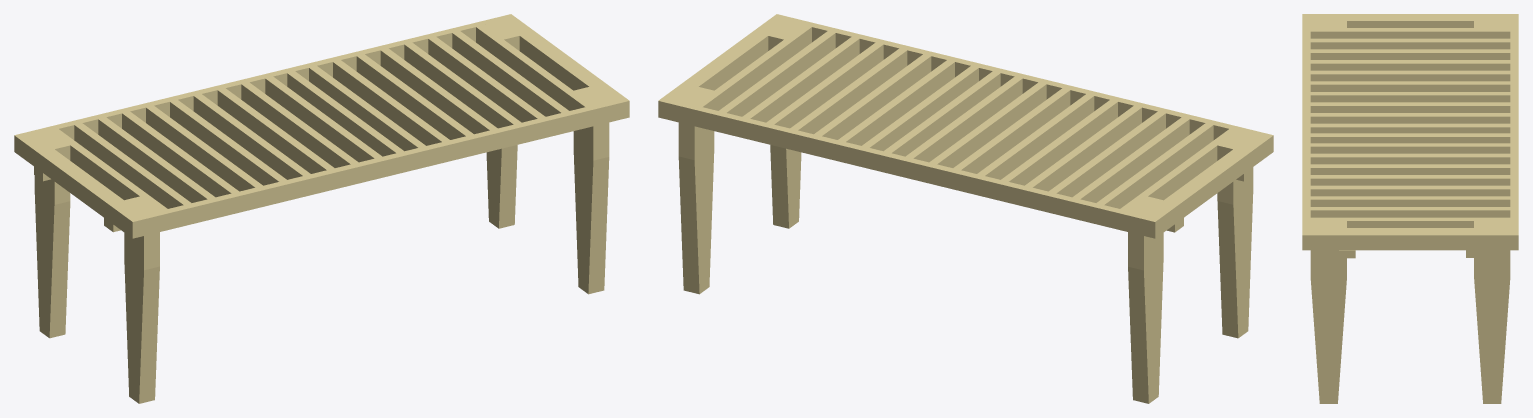
3 views of the same model, side by side, from view 1: azimuth 30°, elevation 25°; view 2: azimuth 150°, elevation 25°; view 3: azimuth 270°, elevation 25° (orthographic). The views are drawn at different scales.
Visible parts, largest first — view 1: mesh3_mesh3-geometry; view 2: mesh3_mesh3-geometry; view 3: mesh3_mesh3-geometry, mesh1_mesh1-geometry.
Boxes of the visible parts, x1,y1,x2,y2 form: mesh3_mesh3-geometry: (14, 14, 629, 403); mesh3_mesh3-geometry: (658, 14, 1273, 403); mesh3_mesh3-geometry: (1302, 14, 1518, 403); mesh1_mesh1-geometry: (1339, 250, 1482, 258).
Bounding box in the file's own units: 0.8745 × 0.3238 × 0.3611.
